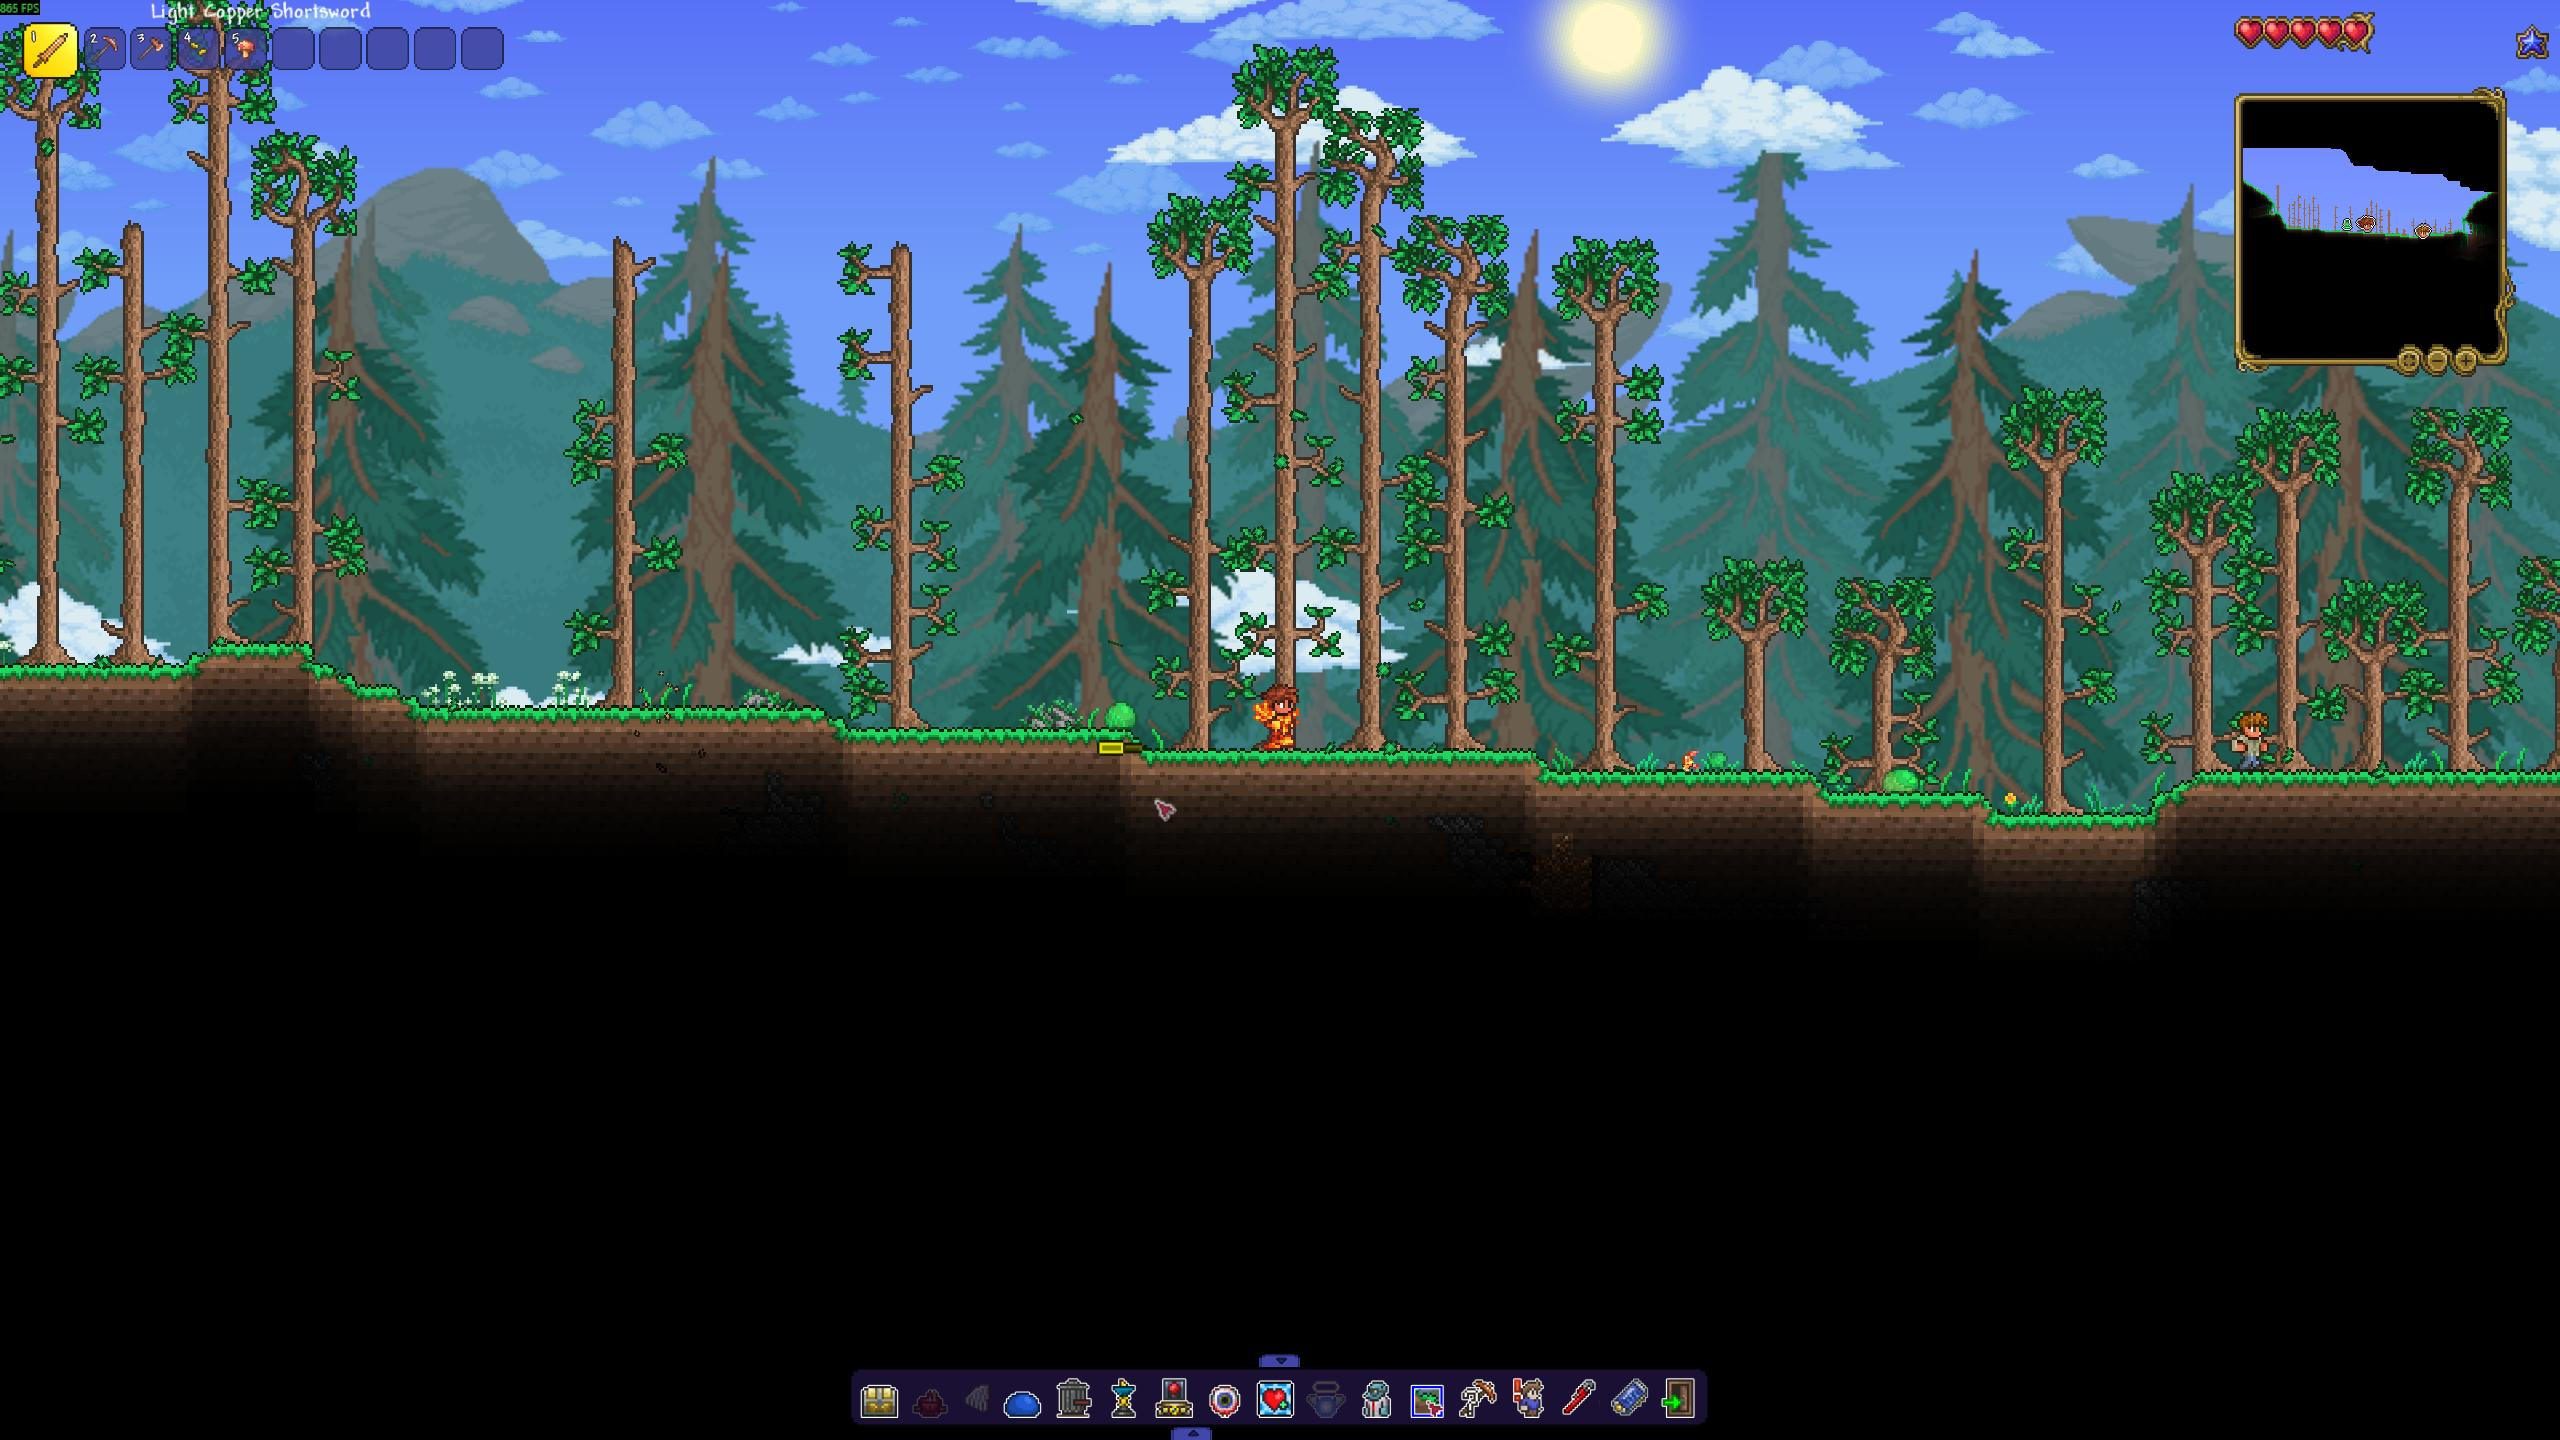Green Slime: (1878, 767, 1922, 793), (1104, 700, 1138, 731)
